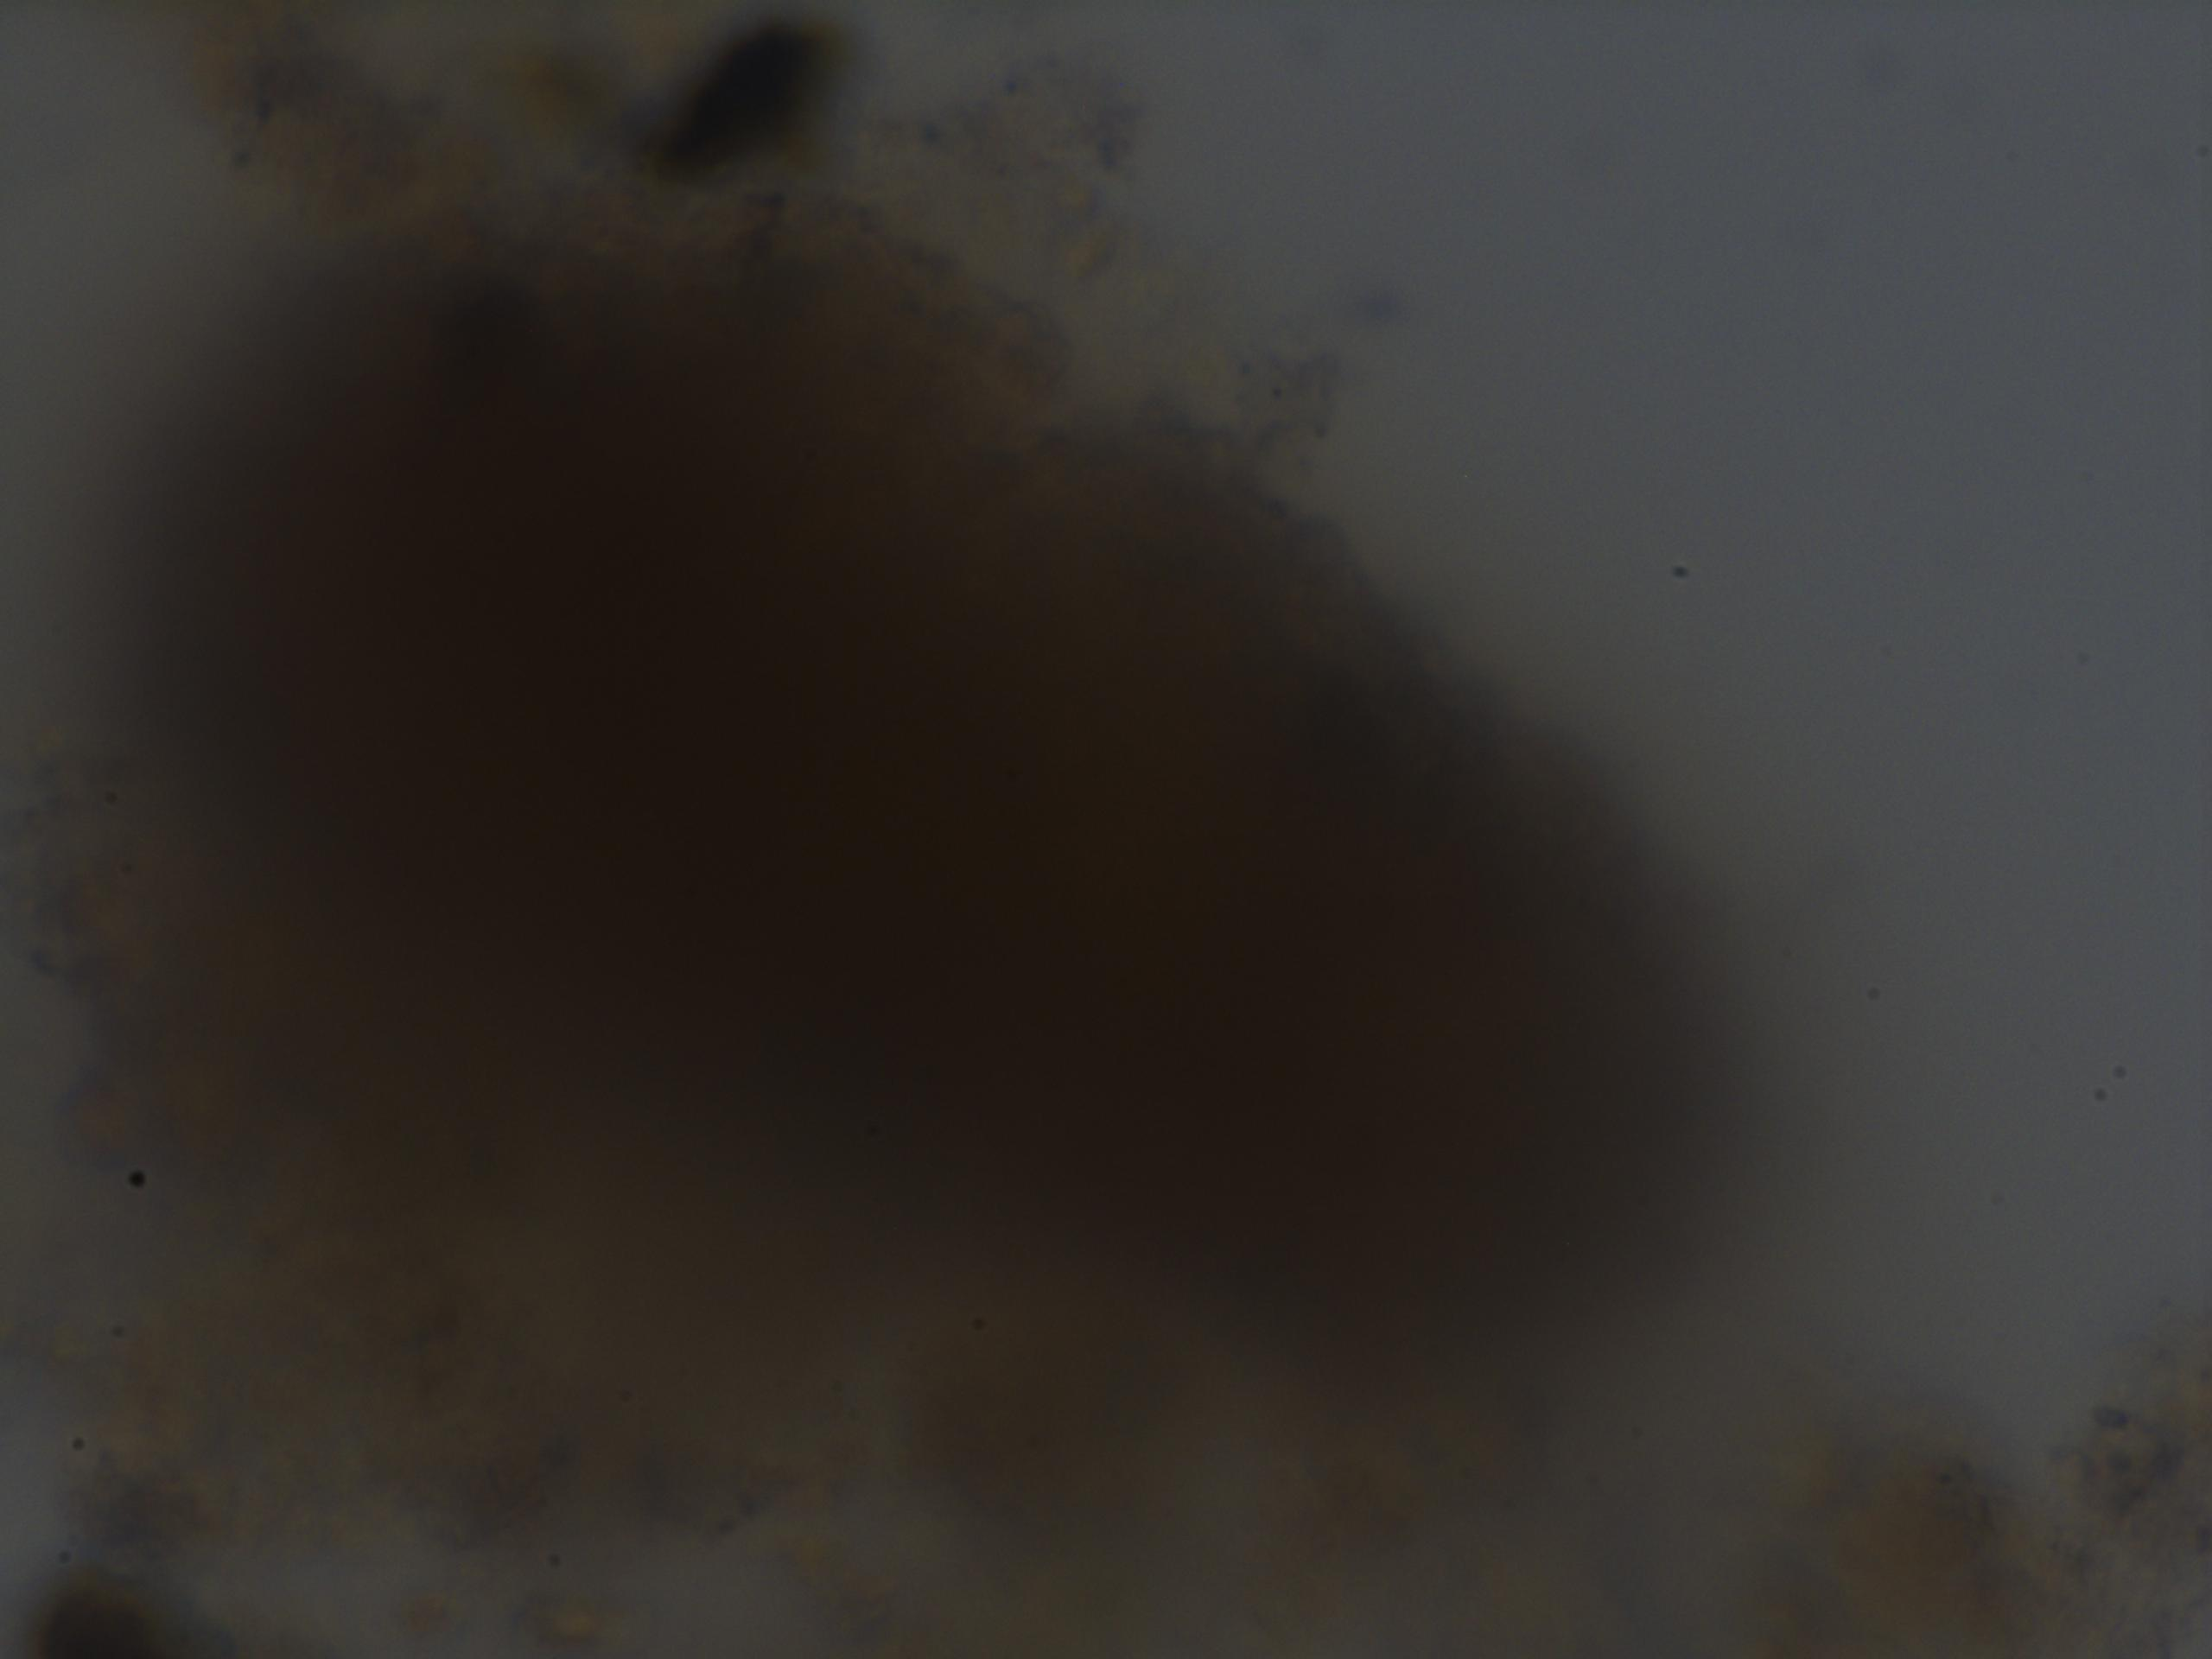spherical_floc: (131, 223, 1749, 1384)
